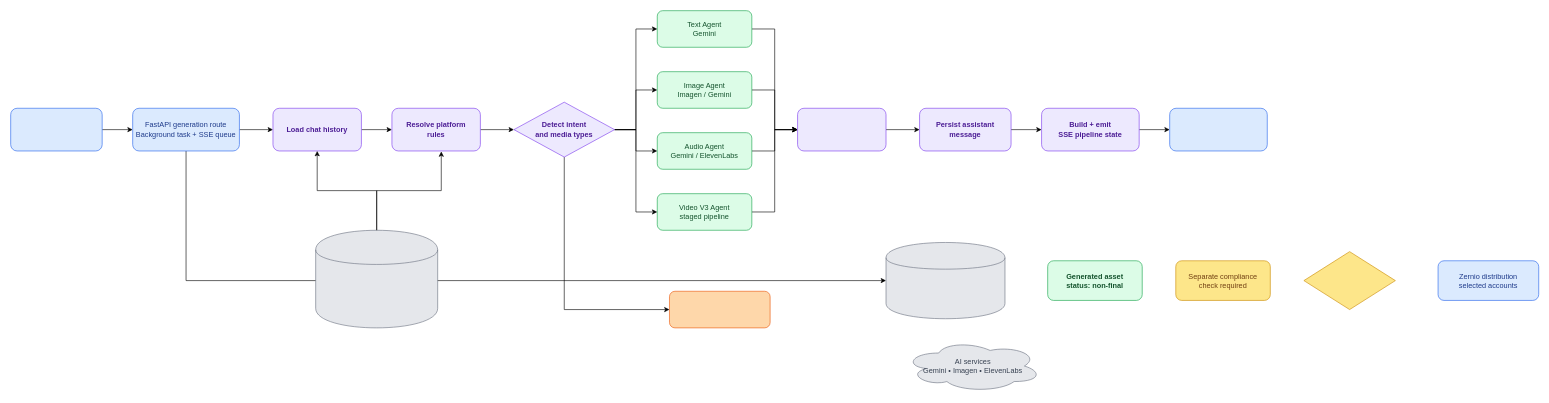
Image size: 1549x403. Some labels were removed from this diagram. The centre of each missing label's shape, as x and y in pixels:
AWS S3 references + generated assets: the point at 945,280
Collect agent results: the point at 841,129
Frontend canvas + output gallery: the point at 1218,129
Human owner publish approval: the point at 1349,280
No media type → clarification reply: the point at 719,309
Supabase / PostgreSQL chat_messages • tasks generated_ads • platform_rules: the point at 376,279
User brief + reference assets: the point at 56,129
